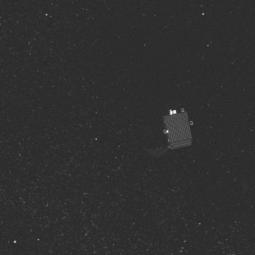proba_3_ocs: (135, 102, 200, 158)
